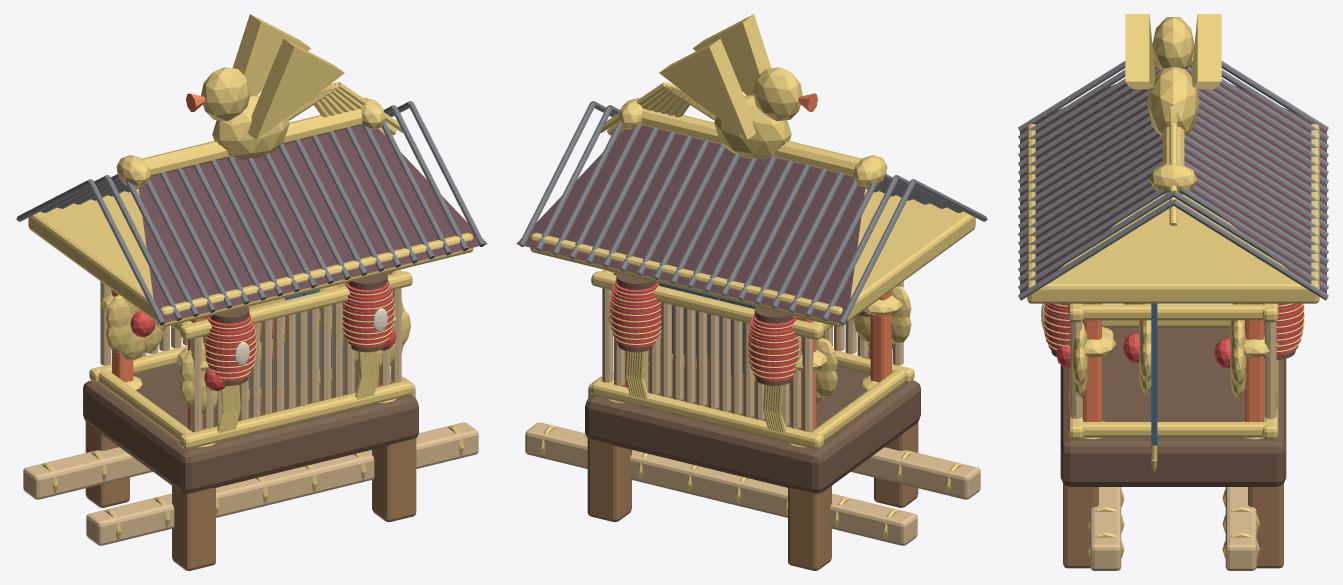
Rendered from matsuri_mikoshi.glb.
The picture shows the model from 3 angles, left to right: view 1: azimuth 30°, elevation 25°; view 2: azimuth 150°, elevation 25°; view 3: azimuth 270°, elevation 25°; orthographic projection. The views are drawn at different scales.
Visible parts, largest first — view 1: Festival shrine multi-tier roofing hipped roof, Heavy joined lacquered chassis, Festival shrine multi-tier roofing underedge, Side carrying beam, Shrine roof phoenix phoenix wing, Side carrying beam.001, Carved balustrade, Through-tenon oak support, Through-tenon oak support.002, Festival shrine multi-tier roofing ridge, Shrine roof phoenix phoenix wing.001, Carved balustrade.002 (+40 smaller); view 2: Festival shrine multi-tier roofing hipped roof.001, Heavy joined lacquered chassis, Festival shrine multi-tier roofing underedge, Side carrying beam.001, Shrine roof phoenix phoenix wing.001, Side carrying beam, Carved balustrade.001, Through-tenon oak support.001, Through-tenon oak support.003, Festival shrine multi-tier roofing ridge, Shrine roof phoenix phoenix wing, Carved balustrade.003 (+40 smaller); view 3: Heavy joined lacquered chassis, Festival shrine multi-tier roofing underedge, Festival shrine multi-tier roofing hipped roof, Festival shrine multi-tier roofing hipped roof.001, Hand-carved transverse sill.003, Hand-carved transverse sill.001, Shrine roof phoenix torso, Through-tenon oak support.002, Through-tenon oak support.003, Side carrying beam, Side carrying beam.001, Shrine roof phoenix phoenix wing (+60 smaller).
Boxes of the visible parts, x1,y1,x2,y2 form: Festival shrine multi-tier roofing hipped roof: (138,125,487,324); Heavy joined lacquered chassis: (83,363,418,493); Festival shrine multi-tier roofing underedge: (28,188,473,326); Side carrying beam: (86,422,478,545); Shrine roof phoenix phoenix wing: (248,38,344,139); Side carrying beam.001: (23,376,415,499); Carved balustrade: (180,381,412,449); Through-tenon oak support: (172,486,215,570); Through-tenon oak support.002: (372,438,416,522); Festival shrine multi-tier roofing ridge: (142,108,362,176); Shrine roof phoenix phoenix wing.001: (232,14,310,95); Carved balustrade.002: (180,271,412,339); Festival shrine multi-tier roofing hipped roof.001: (516,125,865,324); Heavy joined lacquered chassis: (585,357,920,493); Festival shrine multi-tier roofing underedge: (530,188,975,326); Side carrying beam.001: (525,422,917,545); Shrine roof phoenix phoenix wing.001: (659,38,755,139); Side carrying beam: (588,376,980,499); Carved balustrade.001: (591,381,823,449); Through-tenon oak support.001: (788,486,831,570); Through-tenon oak support.003: (587,438,631,522); Festival shrine multi-tier roofing ridge: (641,108,861,176); Shrine roof phoenix phoenix wing: (693,14,771,95); Carved balustrade.003: (591,271,823,339); Heavy joined lacquered chassis: (1060,328,1286,486); Festival shrine multi-tier roofing underedge: (1027,124,1319,303); Festival shrine multi-tier roofing hipped roof: (1020,67,1162,299); Festival shrine multi-tier roofing hipped roof.001: (1184,67,1326,299); Hand-carved transverse sill.003: (1080,304,1266,320); Hand-carved transverse sill.001: (1080,422,1266,437); Shrine roof phoenix torso: (1147,67,1199,135); Through-tenon oak support.002: (1063,483,1098,568); Through-tenon oak support.003: (1248,483,1283,568); Side carrying beam: (1090,487,1121,570); Side carrying beam.001: (1225,487,1256,570); Shrine roof phoenix phoenix wing: (1125,14,1155,89).
Bounding box in the file's own units: 1.65 × 1.95 × 1.08.
